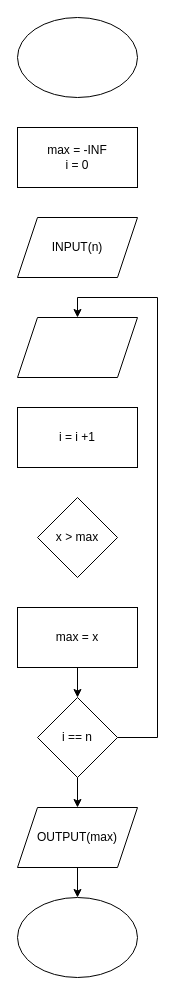
Image size: 183x995. Some labels were removed from this diagram. Each missing label, with the box of its shape:
INPUT(x): (16, 316, 138, 378)
START: (16, 16, 138, 98)
STOP: (16, 896, 138, 978)
